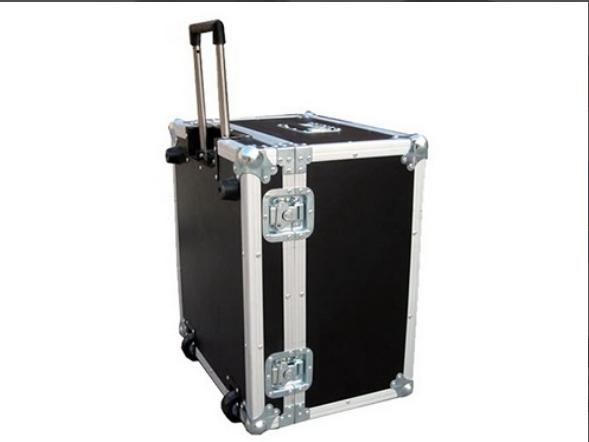luggage: (166, 18, 430, 436)
